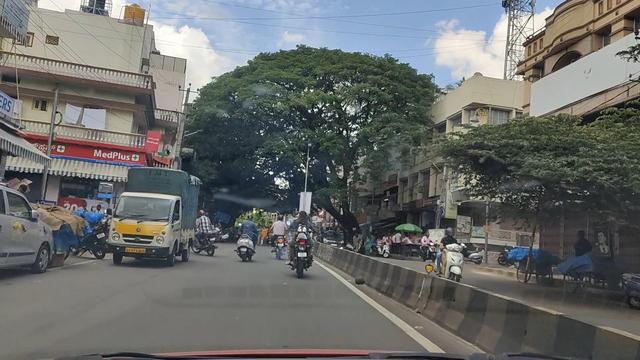HMV: (119, 163, 197, 264)
LMV: (282, 212, 317, 273), (234, 216, 266, 270)
